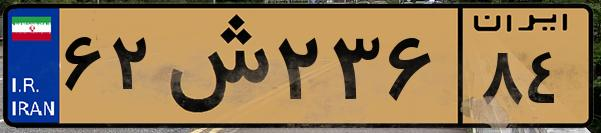2: (270, 28, 330, 110), (110, 28, 158, 98)
3: (330, 28, 385, 110)
4: (525, 38, 570, 115)
6: (385, 28, 445, 110), (57, 26, 110, 100)
8: (475, 38, 525, 113)
ش: (158, 12, 270, 120)
